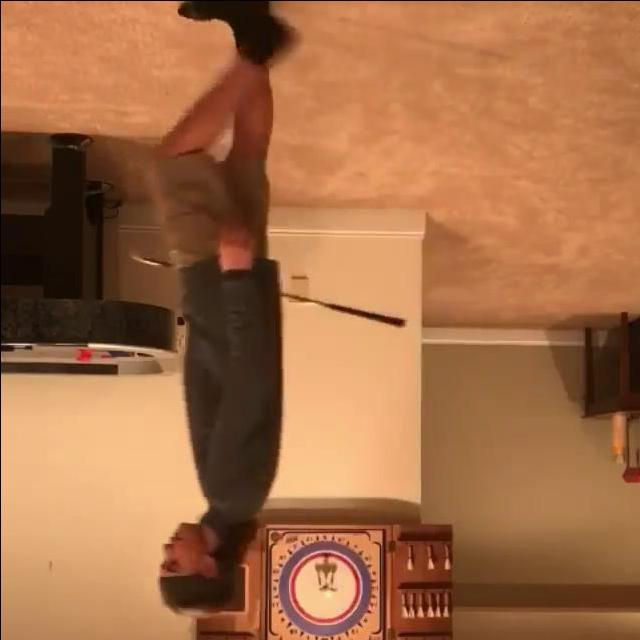golf club-handle: (130, 252, 407, 328)
